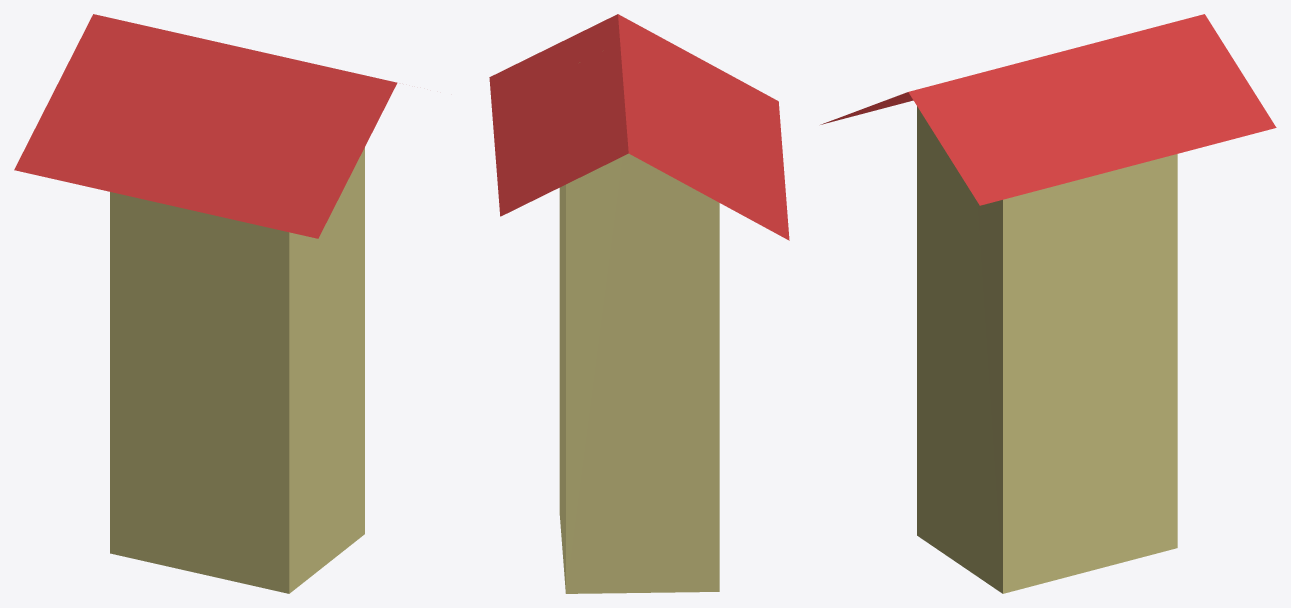
3 views of the same model, side by side, from view 1: azimuth 30°, elevation 25°; view 2: azimuth 150°, elevation 25°; view 3: azimuth 270°, elevation 25° (orthographic). The views are drawn at different scales.
Bounding box in the file's own units: 4.65 × 4.79 × 5.71.
